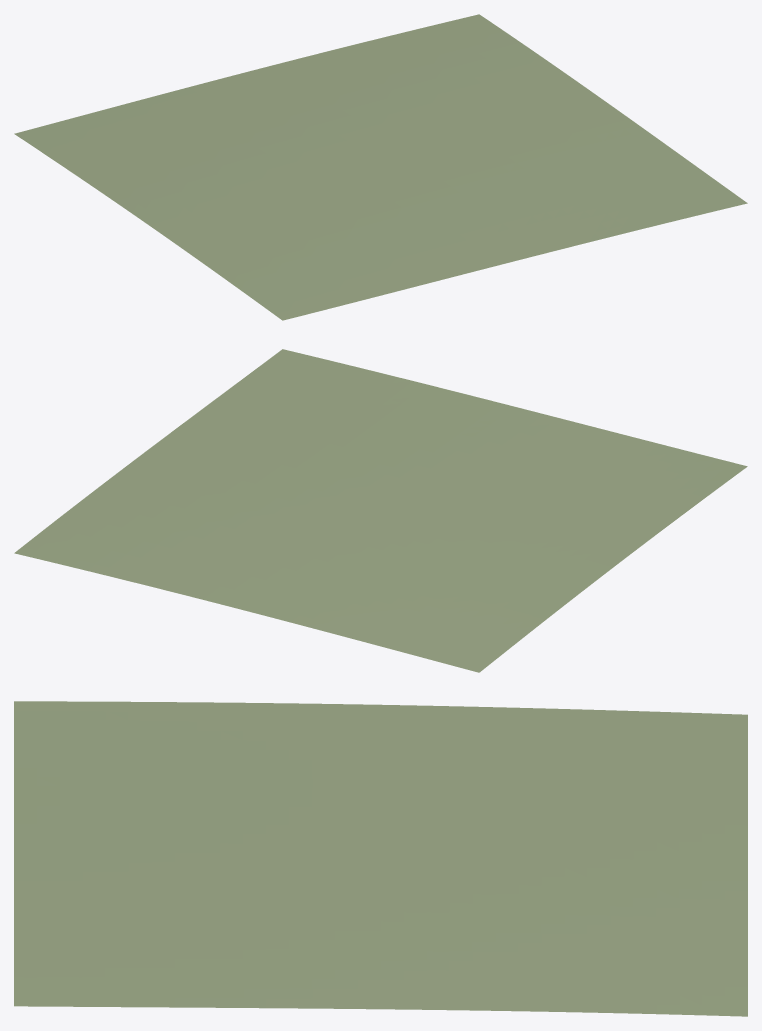
Rendered from expanse-4-12.glb.
3 renders of one model, top to bottom at view 1: azimuth 30°, elevation 25°; view 2: azimuth 150°, elevation 25°; view 3: azimuth 270°, elevation 25°, orthographic. The views are drawn at different scales.
Visible parts, largest first — view 1: expanse-4-12; view 2: expanse-4-12; view 3: expanse-4-12.
Boxes of the visible parts, bbox=[...] form: expanse-4-12: bbox=[14, 14, 747, 320]; expanse-4-12: bbox=[14, 349, 747, 672]; expanse-4-12: bbox=[14, 701, 747, 1016].
Bounding box in the file's own units: 256 × 7.21 × 256.
